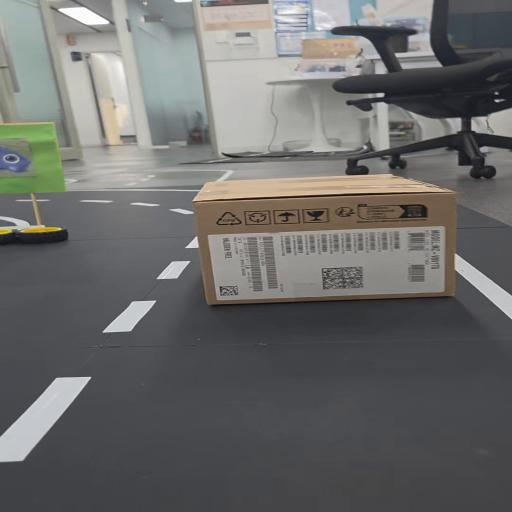Box: (190, 174, 471, 312)
